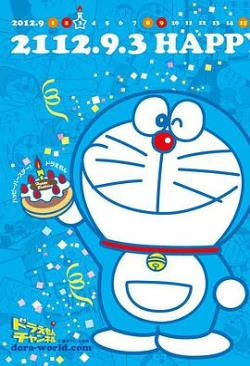Doraemon: (46, 70, 241, 357)
